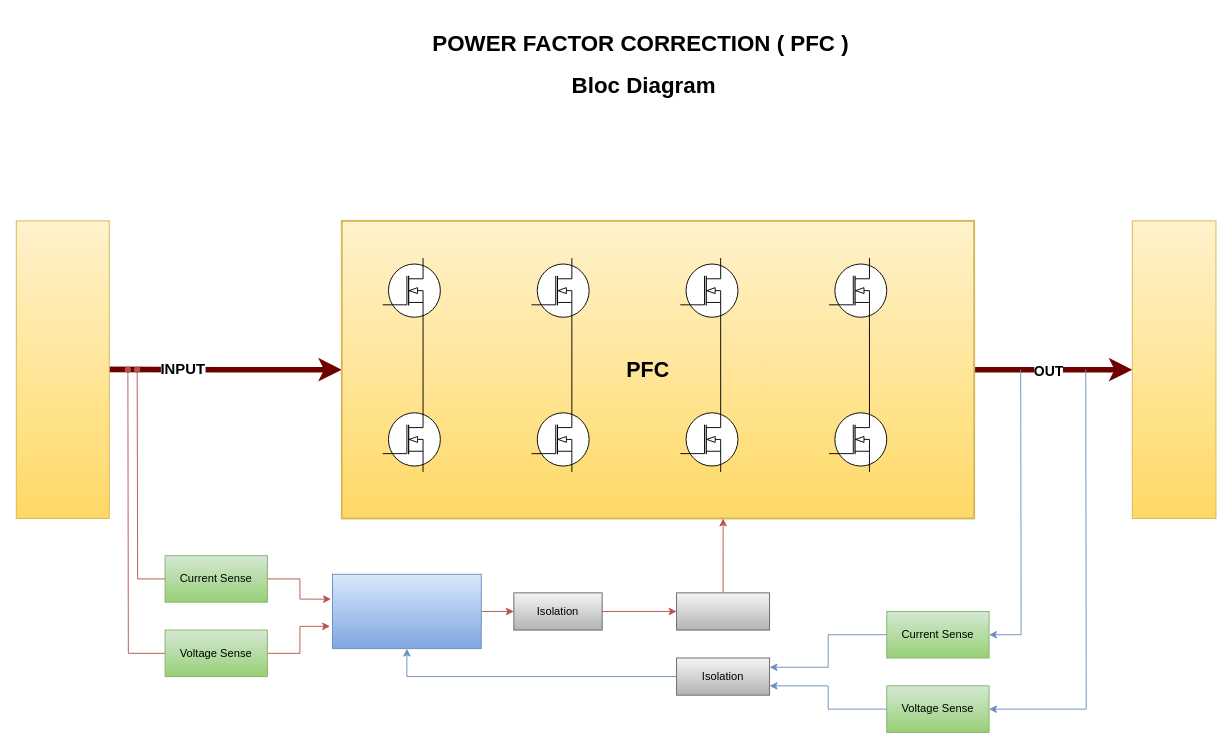
This 1232x749 diagram has some shape labels left out. Here are the shapes that lost their labels. From the top down, the centre of each, then its label:
At (62,369): "AC Source (Mains / EVSE)".
At (1173,369): "DCLINK".
At (406,611): "Control Unit".
At (723,611): "Gate Driver".
